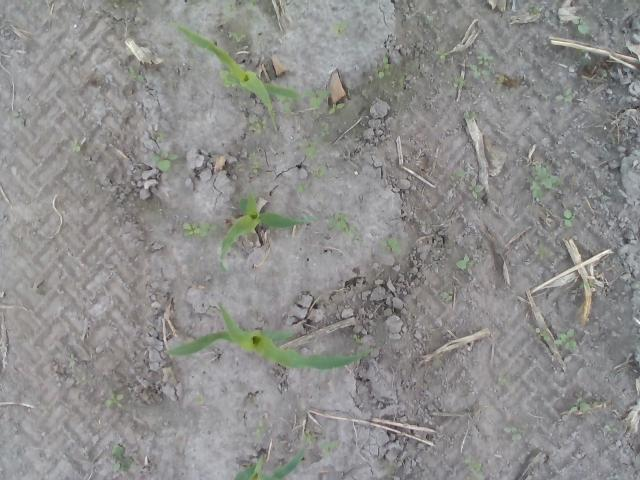Maize: (176, 22, 304, 136), (166, 301, 371, 370), (218, 195, 321, 269), (232, 447, 306, 480)
Weeds: (527, 162, 561, 202), (326, 212, 361, 240), (468, 51, 497, 82), (111, 441, 134, 472), (182, 222, 218, 240), (464, 450, 486, 478), (151, 152, 177, 175), (304, 89, 332, 108), (299, 138, 321, 160), (553, 328, 576, 349), (104, 388, 128, 408), (375, 54, 393, 80), (223, 0, 241, 25), (247, 148, 263, 176), (571, 15, 591, 36), (247, 118, 270, 136), (319, 440, 336, 464), (554, 86, 576, 104), (568, 398, 592, 414), (454, 253, 475, 271), (504, 424, 524, 442), (534, 240, 552, 258), (334, 19, 351, 38), (448, 73, 466, 89), (278, 96, 296, 112), (562, 207, 576, 227), (386, 238, 401, 255), (468, 183, 482, 201), (302, 430, 318, 445), (228, 31, 248, 43), (127, 66, 144, 80), (12, 110, 26, 126), (319, 124, 331, 142), (256, 420, 266, 440), (244, 0, 256, 16), (431, 50, 449, 60), (462, 110, 477, 122), (328, 103, 344, 114), (68, 352, 78, 369), (528, 4, 543, 15), (312, 166, 326, 177), (604, 424, 618, 432), (71, 142, 81, 153), (155, 132, 166, 142), (454, 168, 466, 177), (295, 182, 305, 192), (352, 334, 361, 344), (600, 72, 609, 81), (196, 394, 204, 402), (543, 335, 552, 342), (587, 281, 594, 288), (237, 160, 240, 170)
